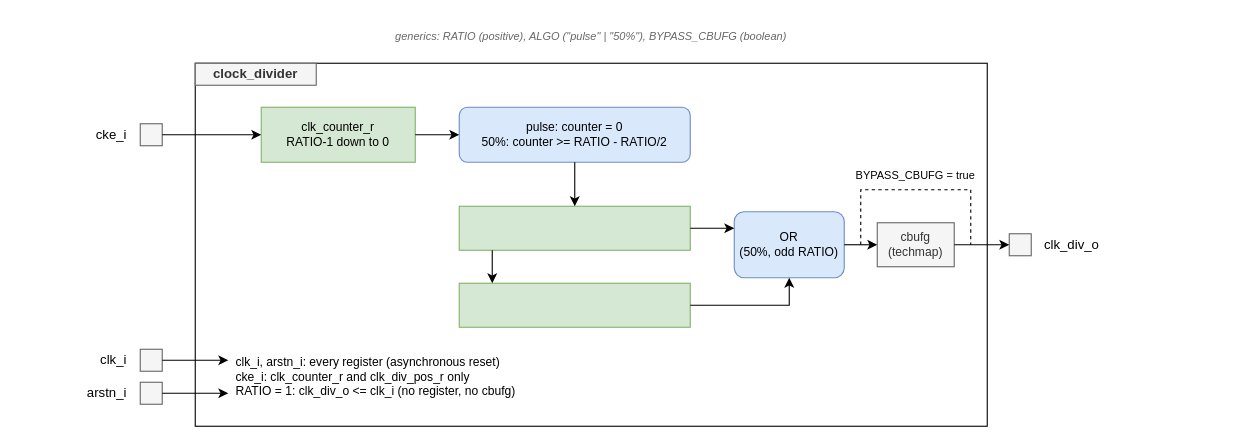
The diagram is 1247 pixels wide and 446 high, and some of its shapes have lost their labels. Each missing label, with the centre of its shape:
"clk_div_neg_r falling edge of clk_i" goes at pixel 574 304.
"clk_div_pos_r rising edge of clk_i" goes at pixel 574 227.
